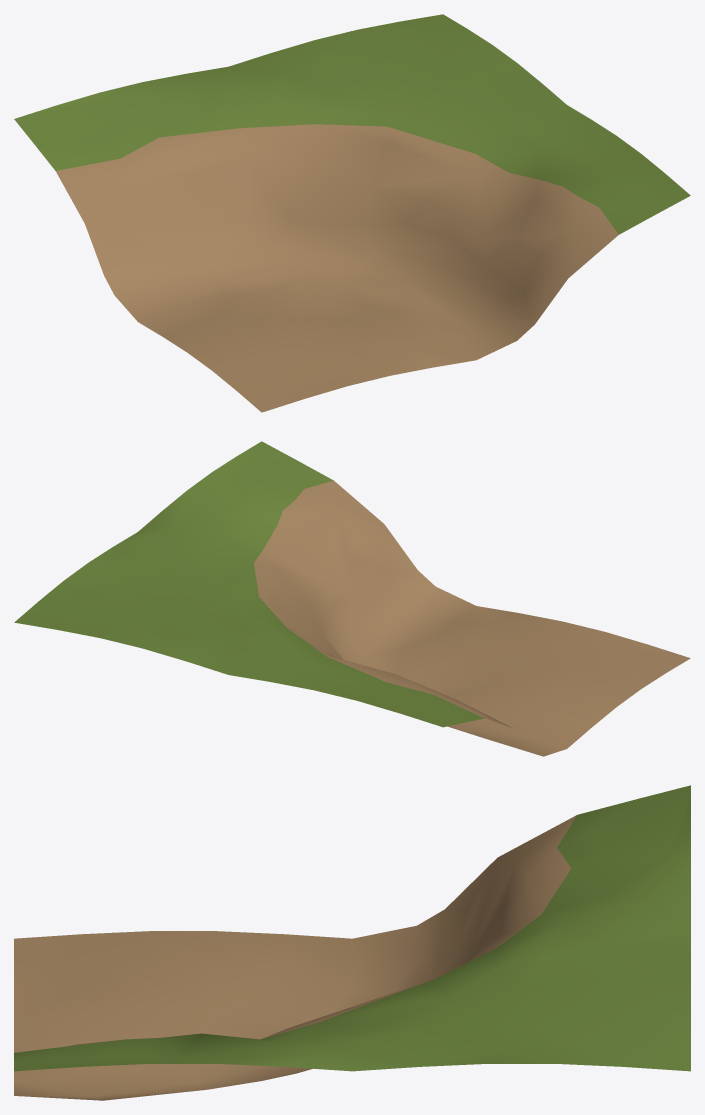
The model's file is rpgpp_av_terrain_lake_04_20x20m.gltf.
3 renders of one model, top to bottom at view 1: azimuth 30°, elevation 25°; view 2: azimuth 150°, elevation 25°; view 3: azimuth 270°, elevation 25°, orthographic. The views are drawn at different scales.
Visible parts, largest first — view 1: rpgpp_av_terrain_lake_04_20x20m; view 2: rpgpp_av_terrain_lake_04_20x20m; view 3: rpgpp_av_terrain_lake_04_20x20m.
Boxes of the visible parts, left/top/right/bottom form: rpgpp_av_terrain_lake_04_20x20m: left=14, top=14, right=690, bottom=412; rpgpp_av_terrain_lake_04_20x20m: left=14, top=441, right=690, bottom=756; rpgpp_av_terrain_lake_04_20x20m: left=14, top=785, right=690, bottom=1100.
Size of the model in its own units: 0.2 by 0.0527 by 0.2.
1 material, 1 textured.
